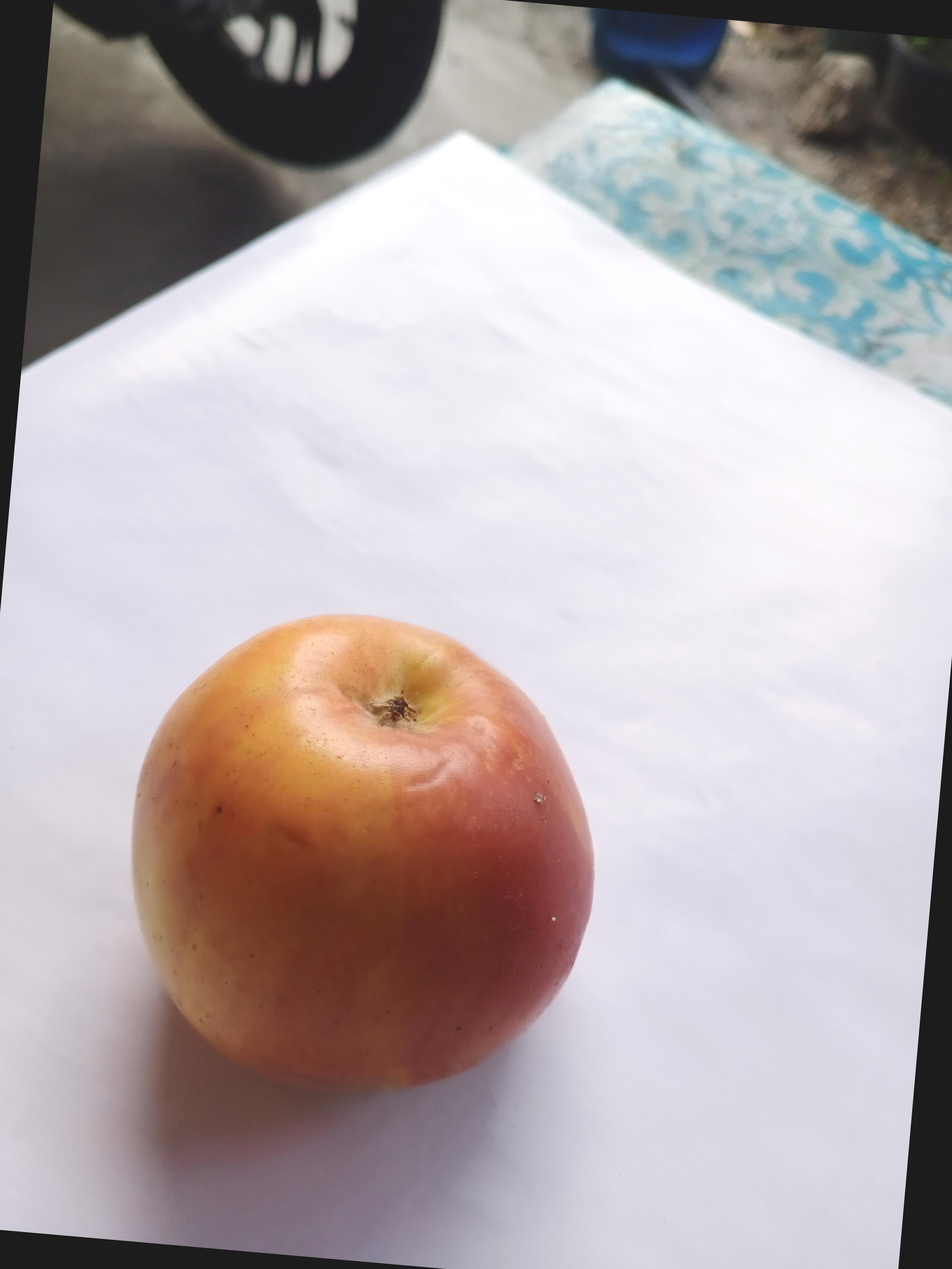Apple Ripe: (161, 519, 697, 1077)
